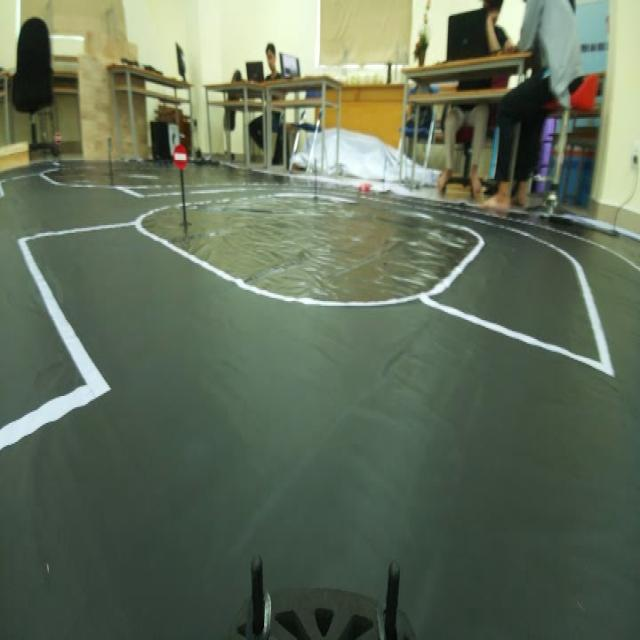no_entry: (168, 137, 194, 175)
